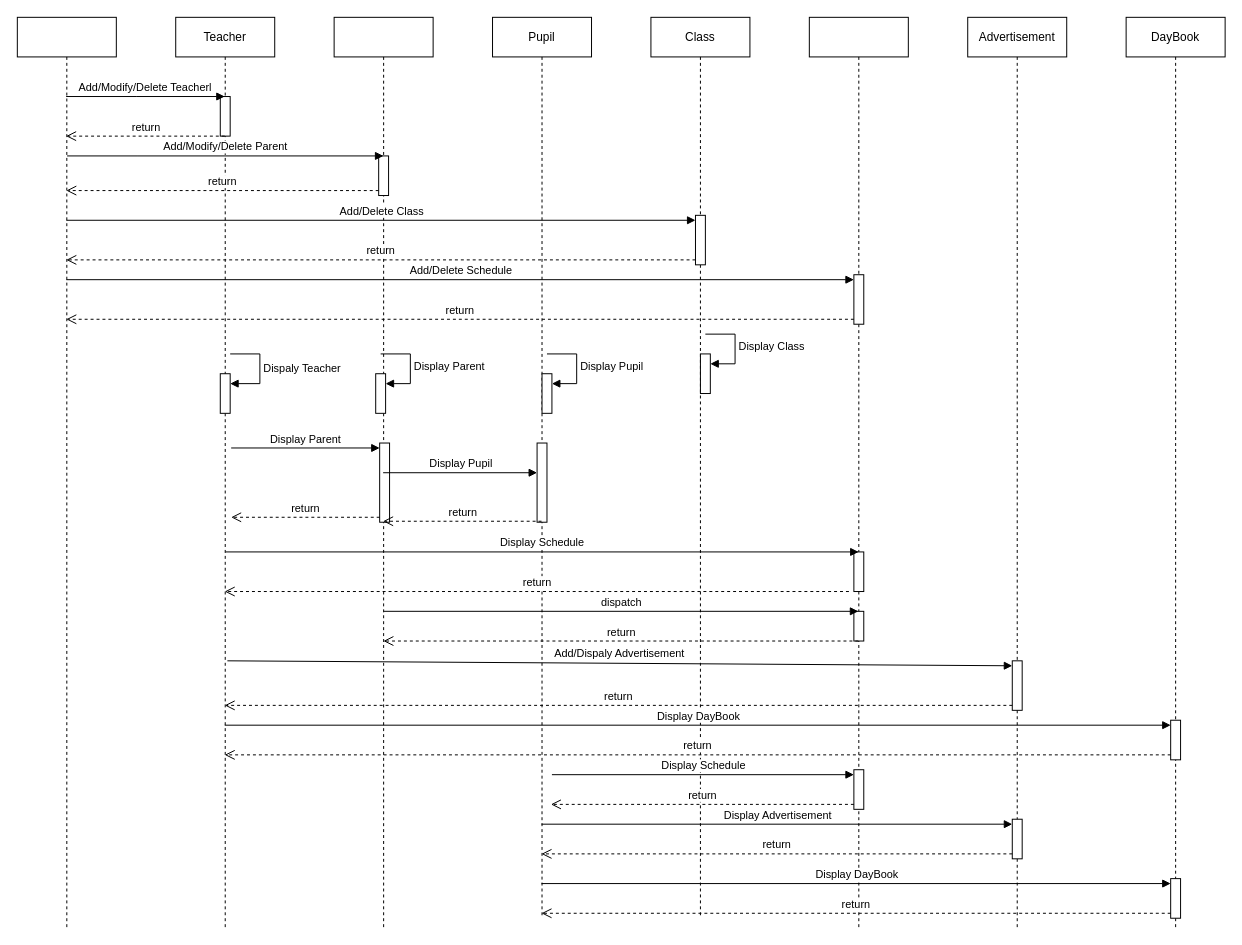
Some shapes in this 1242 by 945 pixel diagram are drawn without their labels. Each missing label, with the box of its shape:
Admin: (16, 16, 116, 928)
Parent: (333, 16, 433, 928)
Schedule: (808, 16, 908, 928)
